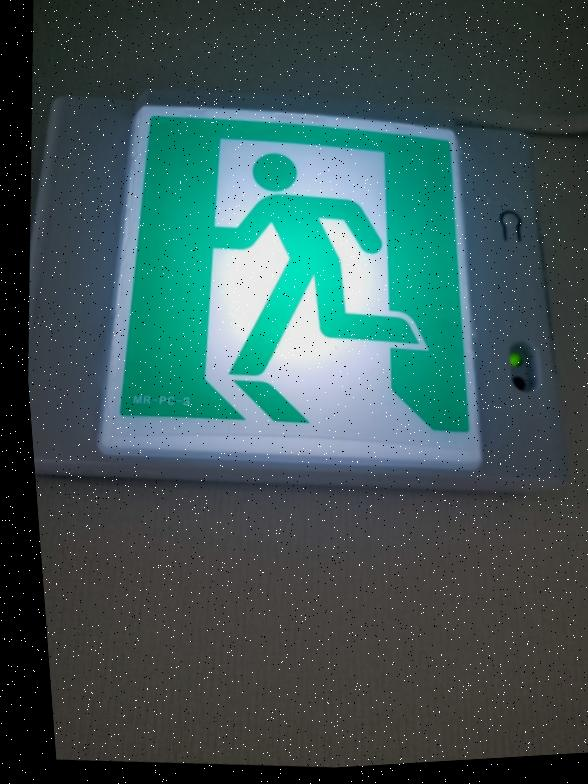emergency_exit: (96, 104, 483, 473)
